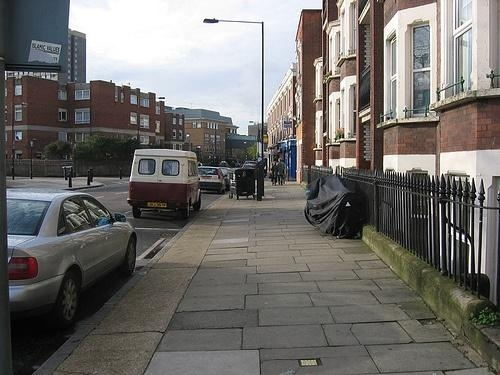car: (10, 188, 141, 325), (130, 149, 201, 220), (200, 170, 223, 195)
